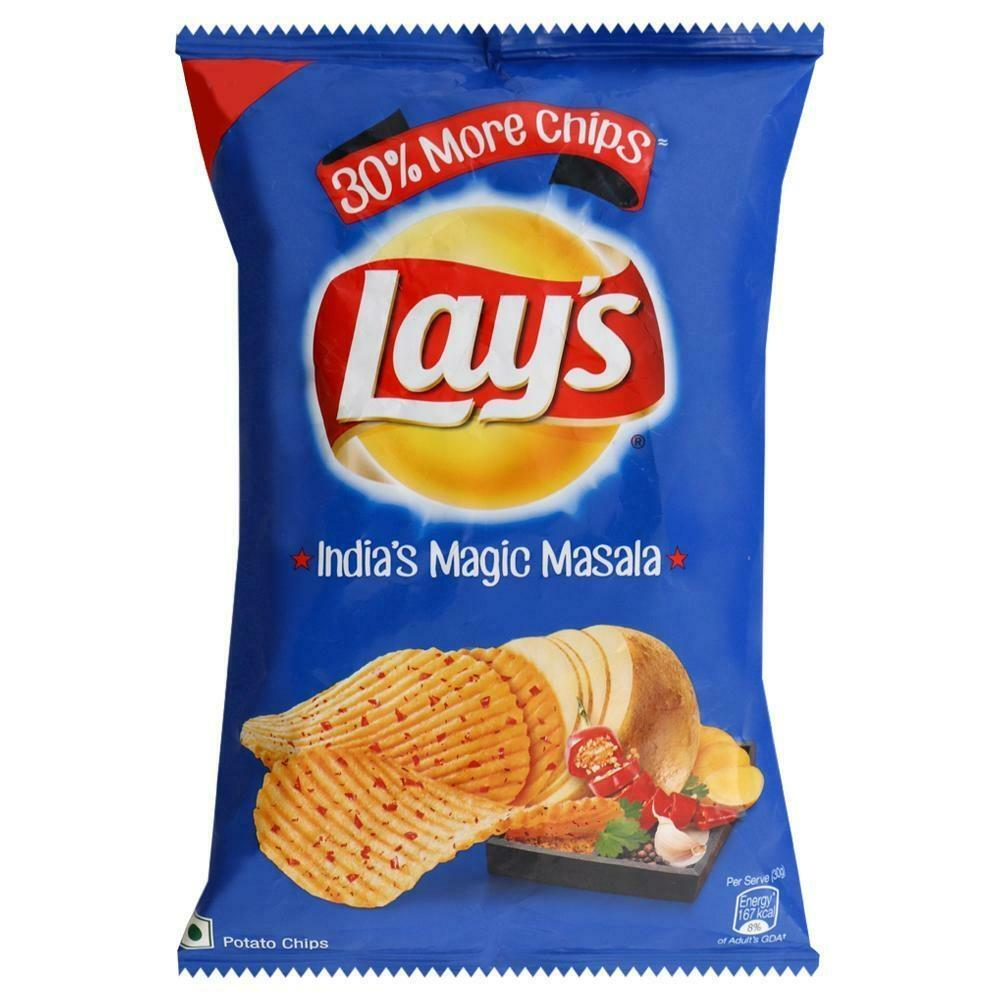Lays: (170, 28, 820, 962)
